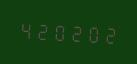four: (17, 17, 33, 42)
two: (34, 18, 50, 43), (103, 21, 119, 46), (69, 20, 85, 44)
zero: (86, 20, 102, 45), (52, 19, 68, 43)
